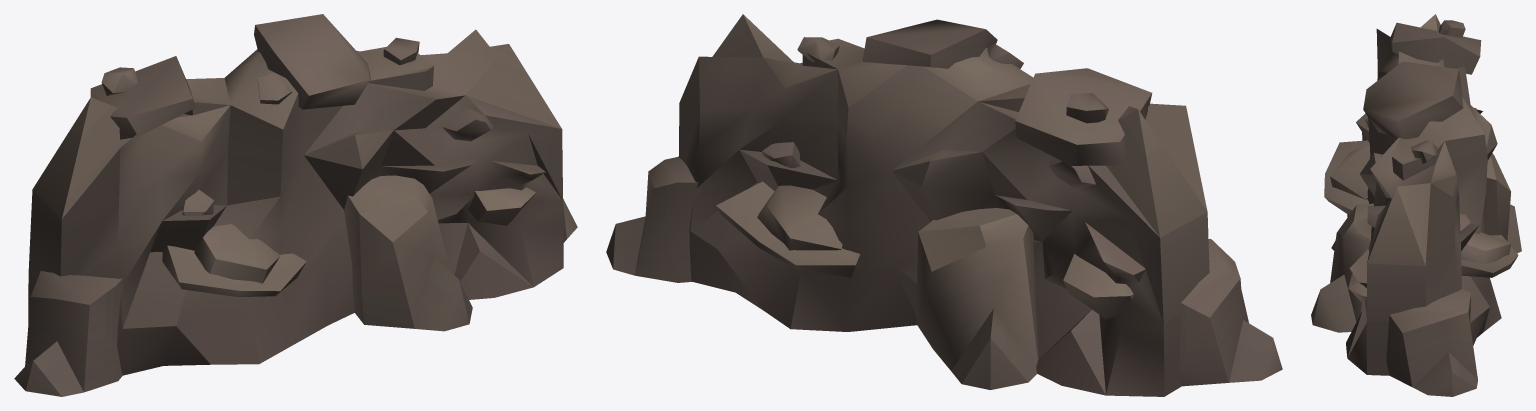
File: rubble_large.glb
3 renders of one model, left to right at view 1: azimuth 30°, elevation 25°; view 2: azimuth 150°, elevation 25°; view 3: azimuth 270°, elevation 25°, orthographic. The views are drawn at different scales.
Parts seen in each view (by area): view 1: rubble_large; view 2: rubble_large; view 3: rubble_large.
Boxes of the visible parts, left/top/right/bottom form: rubble_large: left=14, top=14, right=577, bottom=396; rubble_large: left=606, top=14, right=1282, bottom=396; rubble_large: left=1311, top=14, right=1521, bottom=396.
Size of the model in its own units: 8.13 by 3.5 by 3.18.
1 material, 1 textured.
